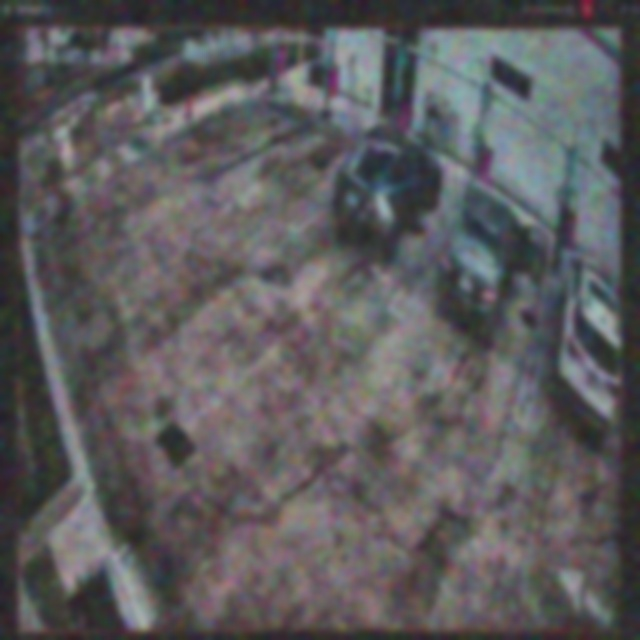Car: (439, 187, 549, 318), (332, 124, 444, 245)
